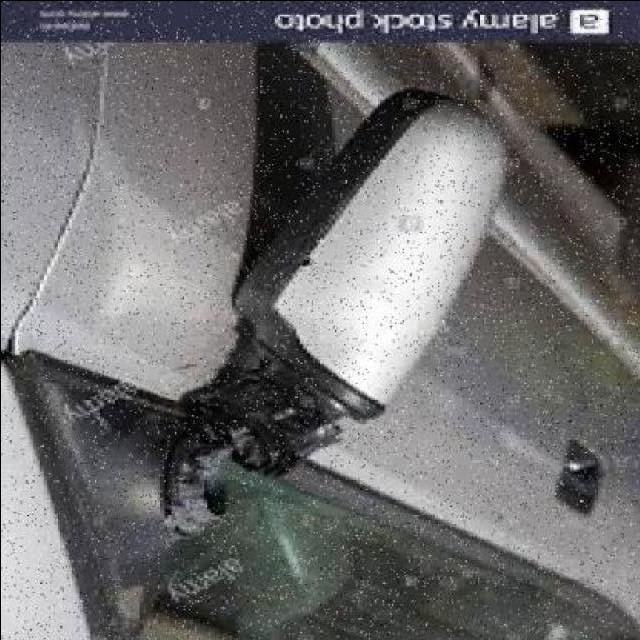Sidemirror-Damage: (134, 85, 547, 533)
